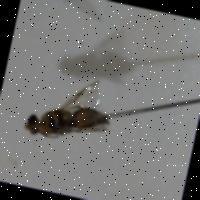Oriental-fruit-fly: (7, 66, 130, 168)
